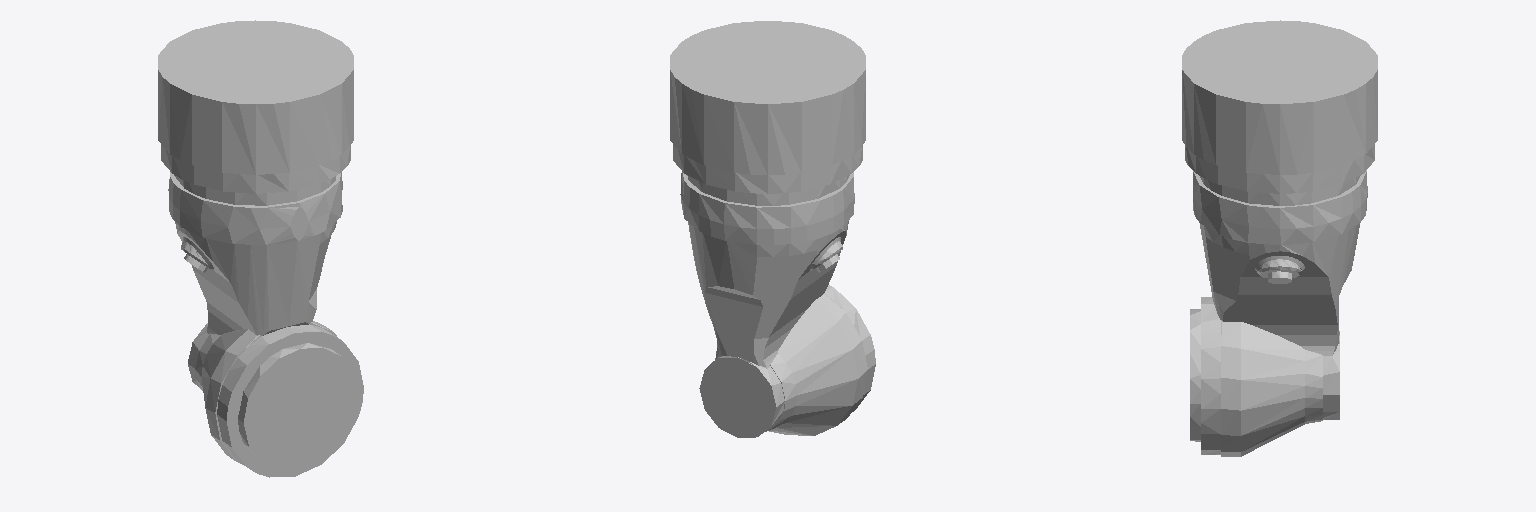
File: kuka_seg_4.obj
3 renders of one model, left to right at view 1: azimuth 30°, elevation 25°; view 2: azimuth 150°, elevation 25°; view 3: azimuth 270°, elevation 25°, orthographic.
Parts seen in each view (by area): view 1: Kuka_Seg_4_Kuka_Seg_4.002; view 2: Kuka_Seg_4_Kuka_Seg_4.002; view 3: Kuka_Seg_4_Kuka_Seg_4.002.
Part boxes in pixels (x1,y1,x2,y2): Kuka_Seg_4_Kuka_Seg_4.002: (158,20,363,477); Kuka_Seg_4_Kuka_Seg_4.002: (670,21,875,437); Kuka_Seg_4_Kuka_Seg_4.002: (1182,20,1377,456).
Size of the model in its own units: 6.06 by 13.03 by 5.97.